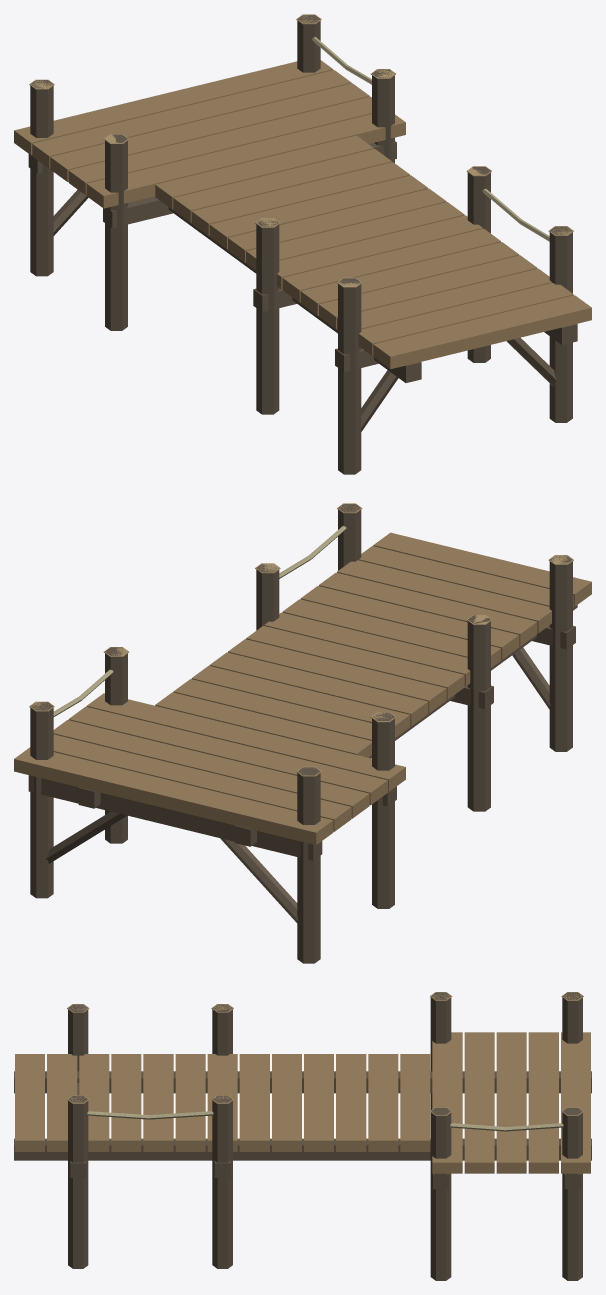
File: Dock_Intact.fbx
The picture shows the model from 3 angles, top to bottom: view 1: azimuth 30°, elevation 25°; view 2: azimuth 150°, elevation 25°; view 3: azimuth 270°, elevation 25°; orthographic projection. The views are drawn at different scales.
Parts seen in each view (by area): view 1: Dock_Intact; view 2: Dock_Intact; view 3: Dock_Intact.
Boxes of the visible parts, box(x1,y1,x2,y2) form: Dock_Intact: box(14, 14, 591, 474); Dock_Intact: box(14, 503, 591, 963); Dock_Intact: box(14, 992, 591, 1280).
Size of the model in its own units: 4.8 by 2.85 by 9.
